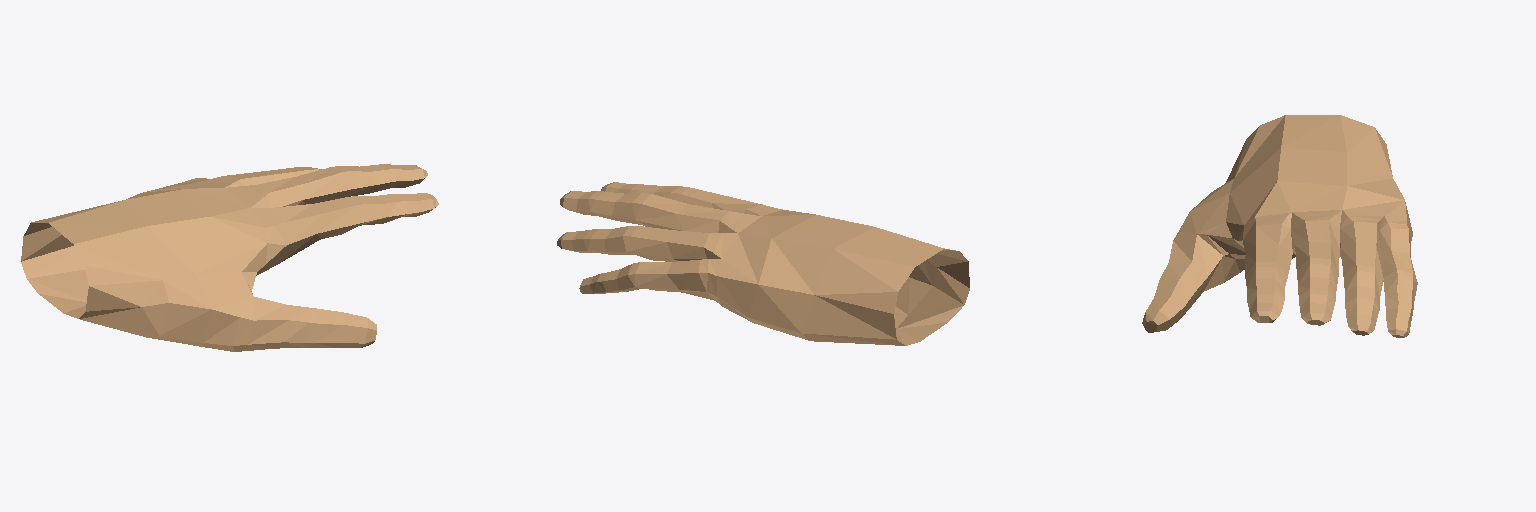
Rendered from LeftWrist.obj.
The picture shows the model from 3 angles: view 1: azimuth 30°, elevation 25°; view 2: azimuth 150°, elevation 25°; view 3: azimuth 270°, elevation 25°; orthographic projection.
Parts seen in each view (by area): view 1: left_hand SmoothSkin2_jackie; view 2: left_hand SmoothSkin2_jackie; view 3: left_hand SmoothSkin2_jackie.
Part boxes in pixels (left/top/right/bottom): left_hand SmoothSkin2_jackie: left=21, top=164, right=438, bottom=351; left_hand SmoothSkin2_jackie: left=557, top=182, right=969, bottom=345; left_hand SmoothSkin2_jackie: left=1142, top=115, right=1417, bottom=337.
Size of the model in its own units: 7.86 by 2.25 by 5.02.